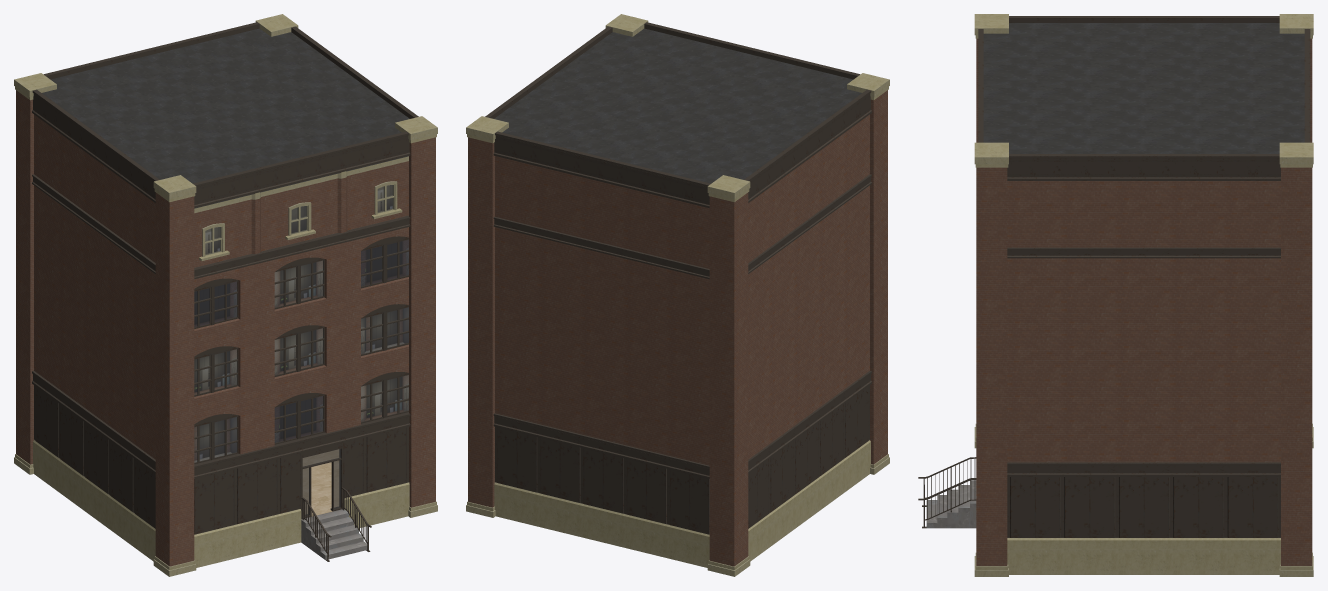
The model's file is la-building-small.glb.
The picture shows the model from 3 angles, left to right: view 1: azimuth 30°, elevation 25°; view 2: azimuth 150°, elevation 25°; view 3: azimuth 270°, elevation 25°; orthographic projection. The views are drawn at different scales.
Visible parts, largest first — view 1: Building_Small_1; view 2: Building_Small_1; view 3: Building_Small_1.
Boxes of the visible parts, box(x1,y1,x2,y2) form: Building_Small_1: box(14, 14, 437, 576); Building_Small_1: box(466, 14, 889, 576); Building_Small_1: box(918, 14, 1313, 576).
Bounding box in the file's own units: 12.46 × 17.03 × 14.54.
Materials: 10 (9 with a texture image).
